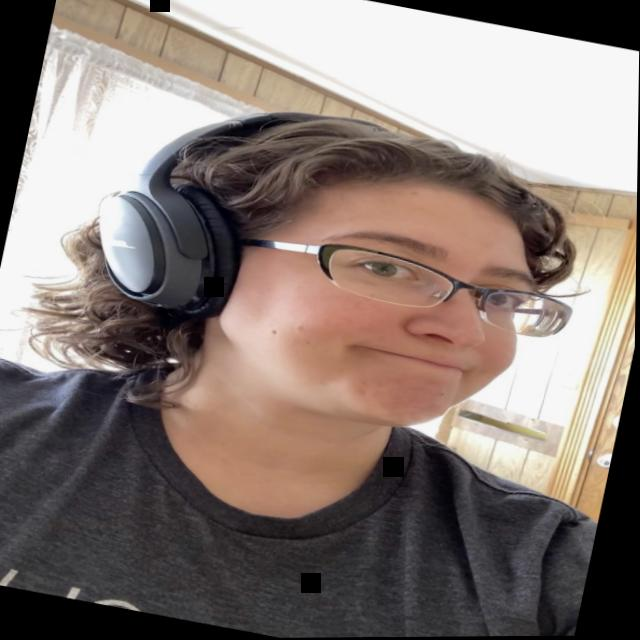NO-Mask: (207, 150, 550, 447)
